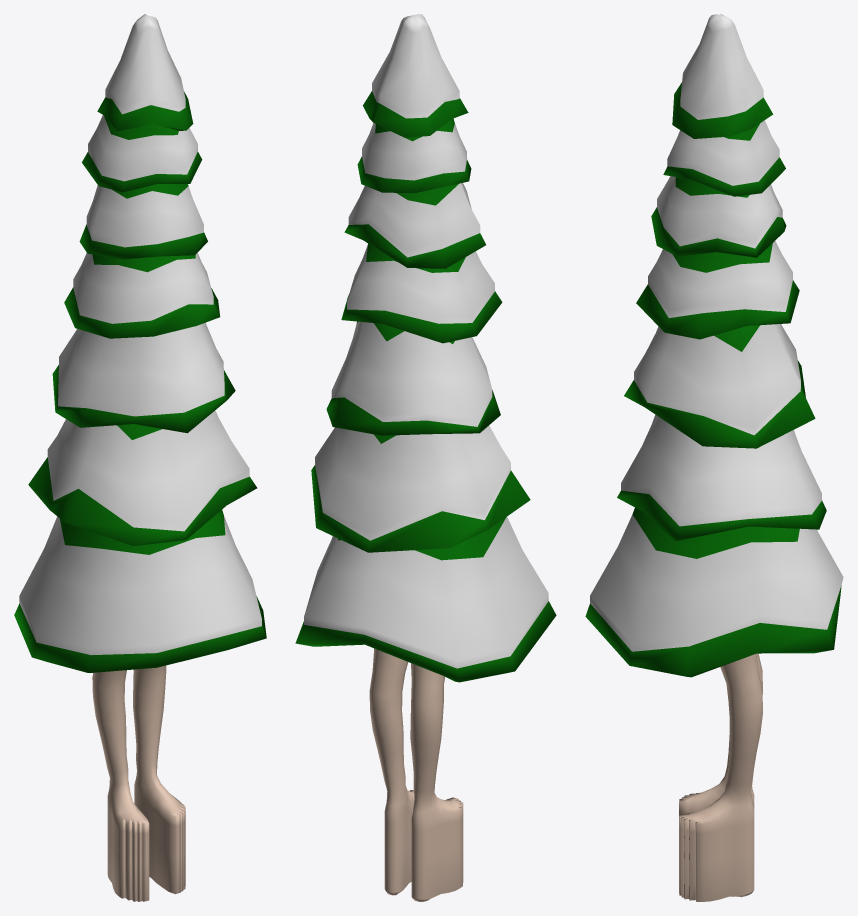
Rendered from SW_TreeB1.fbx.
3 renders of one model, left to right at view 1: azimuth 30°, elevation 25°; view 2: azimuth 150°, elevation 25°; view 3: azimuth 270°, elevation 25°, orthographic.
Parts seen in each view (by area): view 1: leaves4, woman; view 2: leaves4, woman; view 3: leaves4, woman.
Boxes of the visible parts, x1,y1,x2,y2 form: leaves4: [14, 14, 266, 672]; woman: [92, 665, 185, 901]; leaves4: [295, 14, 556, 682]; woman: [369, 648, 463, 901]; leaves4: [585, 14, 843, 677]; woman: [679, 653, 762, 901].
Size of the model in its own units: 596 by 2382 by 636.
